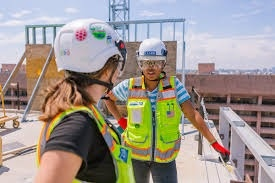helmet: (48, 16, 133, 75), (136, 36, 168, 62)
person with full safety: (42, 18, 131, 183), (128, 35, 187, 181)
safety vest: (46, 108, 126, 182), (128, 76, 180, 167)
